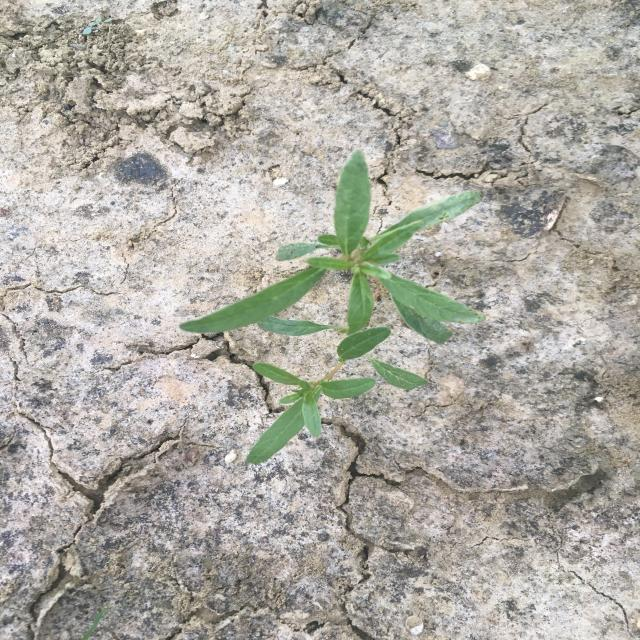Waterhemp: (176, 146, 486, 466)
